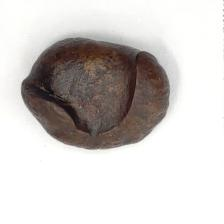NG: (56, 49, 142, 138), (17, 49, 93, 106)
